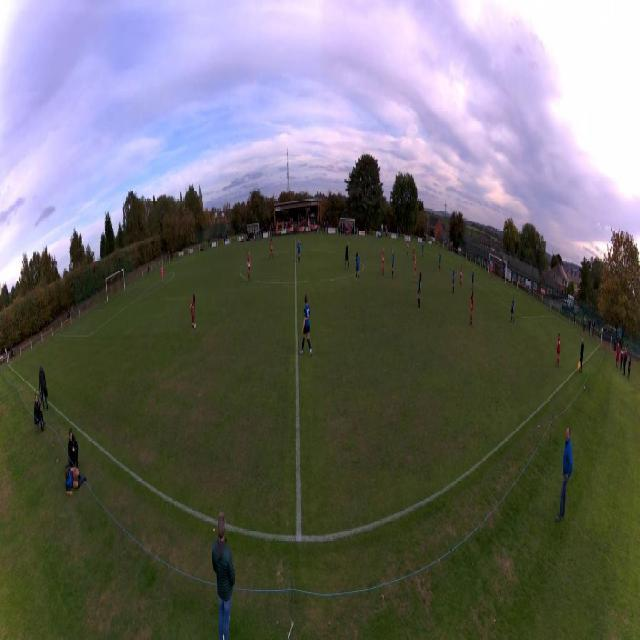ball: (194, 322, 196, 329)
player: (299, 293, 313, 358), (556, 332, 562, 368), (355, 251, 361, 282), (417, 271, 422, 308), (191, 293, 196, 329), (345, 242, 351, 270), (469, 290, 473, 326), (510, 296, 515, 324), (247, 251, 251, 282), (391, 250, 395, 279), (381, 247, 385, 276), (297, 239, 301, 263), (414, 254, 417, 282), (452, 266, 455, 294), (269, 239, 273, 258), (460, 263, 463, 287), (471, 268, 474, 292), (439, 251, 442, 270), (161, 265, 164, 284), (421, 242, 424, 258), (406, 239, 409, 255), (491, 262, 493, 279), (413, 243, 415, 259)
